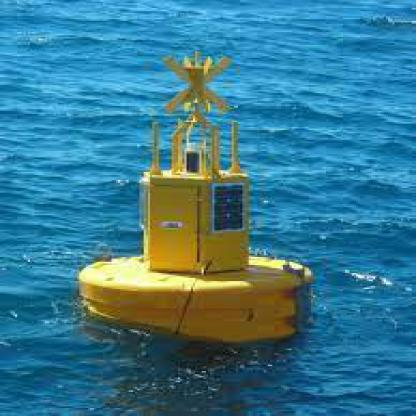buoy: (75, 42, 322, 344)
